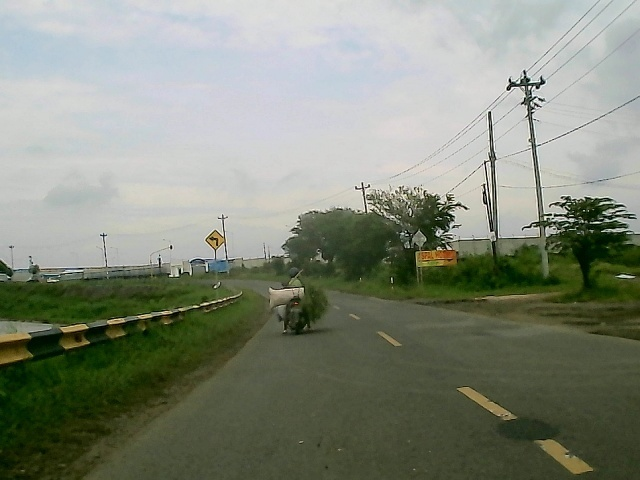Tikungan tajam ke kiri: (202, 227, 226, 252)
